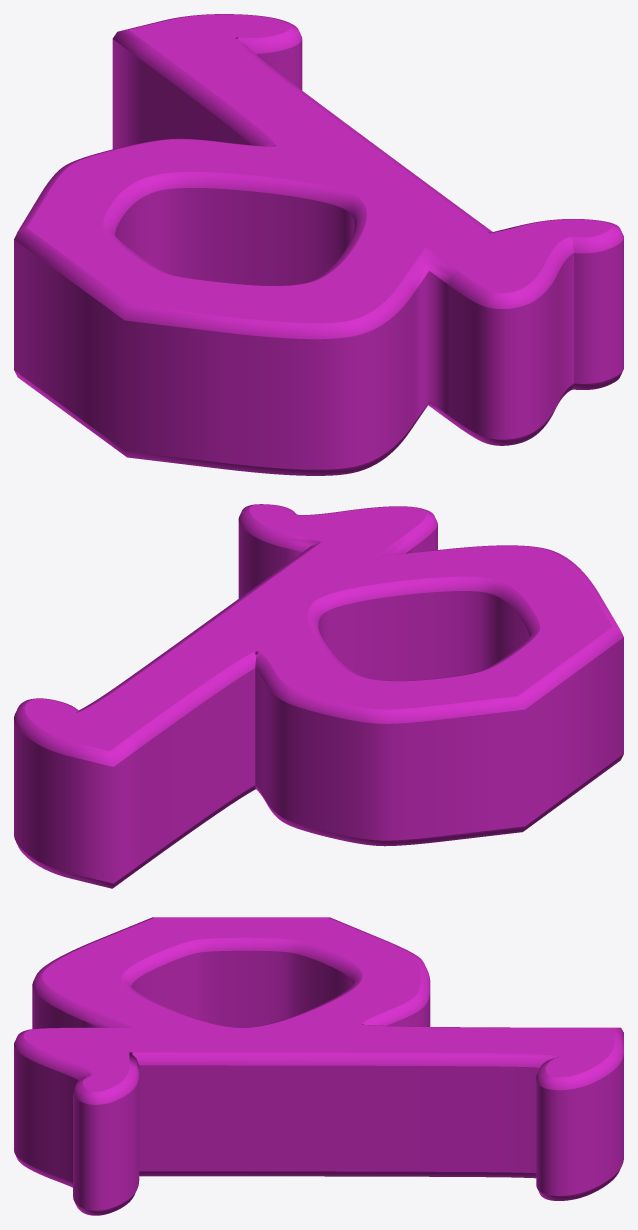
File: Letter_p_Small.fbx
3 renders of one model, top to bottom at view 1: azimuth 30°, elevation 25°; view 2: azimuth 150°, elevation 25°; view 3: azimuth 270°, elevation 25°, orthographic. The views are drawn at different scales.
Visible parts, largest first — view 1: Letter_p; view 2: Letter_p; view 3: Letter_p.
Boxes of the visible parts, left/top/right/bottom form: Letter_p: left=14, top=14, right=623, bottom=475; Letter_p: left=14, top=504, right=623, bottom=888; Letter_p: left=14, top=917, right=623, bottom=1215.
Bounding box in the file's own units: 0.4444 × 0.14 × 0.6272.
